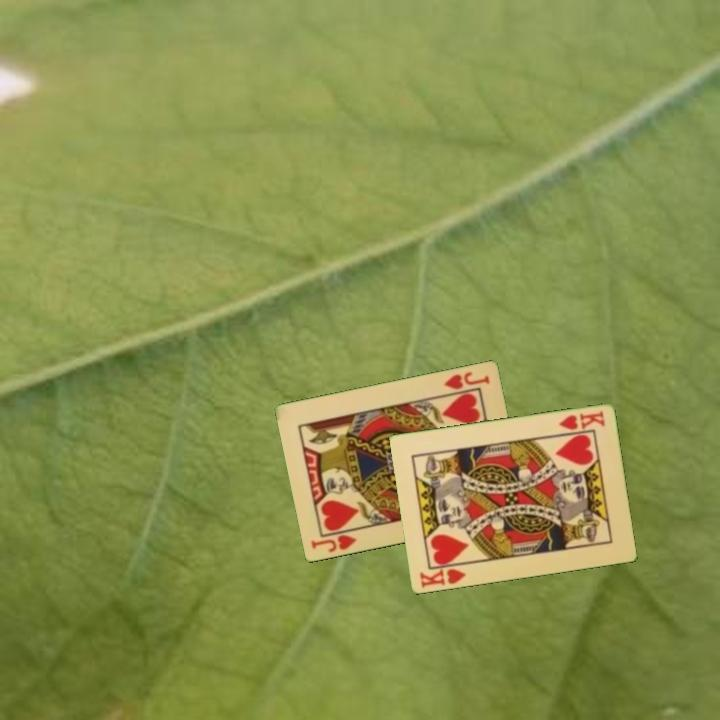Jh: (307, 531, 360, 556), (440, 369, 492, 393)
Kh: (416, 560, 470, 591), (555, 408, 607, 433)
